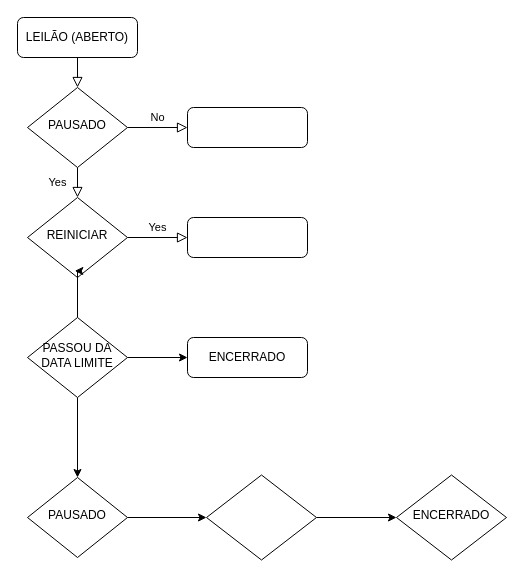
The diagram is 524 pixels wide and 578 high, and some of its shapes have lost their labels. The shapes that lost their labels are listed below. From the top down, each one's centre as x and y in pixels, then its label:
At pixel 247 127: "SUSPENSO".
At pixel 247 237: "ABERTO".
At pixel 261 517: "DESISTIU (LEILOEIRO)".
